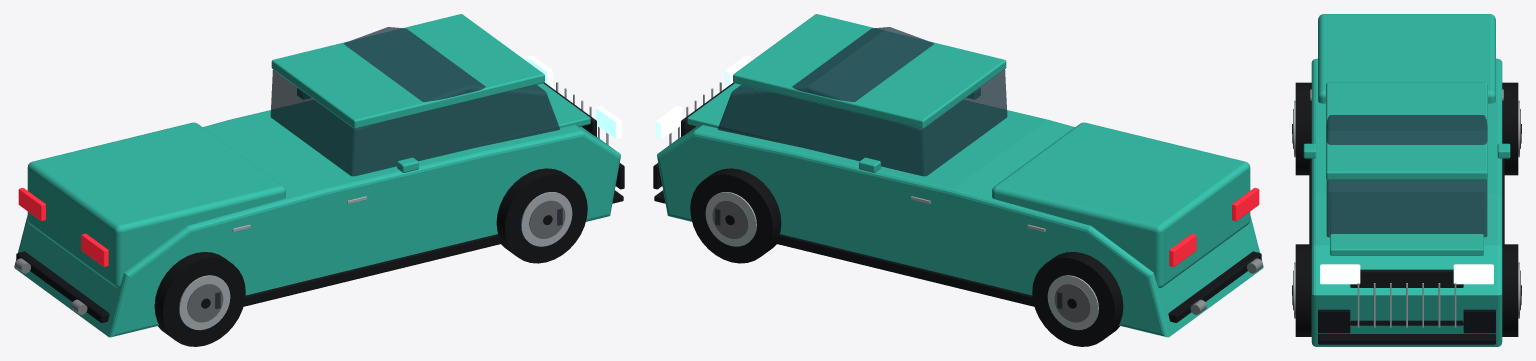
The model's file is ford_f_450_super_duty.glb.
3 renders of one model, left to right at view 1: azimuth 30°, elevation 25°; view 2: azimuth 150°, elevation 25°; view 3: azimuth 270°, elevation 25°, orthographic. The views are drawn at different scales.
Parts seen in each view (by area): view 1: sculpted_body, pickup_bed, cab, cab_roof, hood_center, rear_right_wheel_tire, front_right_wheel_tire, side_skirt_1, rear_diffuser, rear_right_wheel_rim, front_right_wheel_rim, rear_right_wheel_disc (+4 smaller); view 2: sculpted_body, pickup_bed, cab, cab_roof, hood_center, rear_left_wheel_tire, front_left_wheel_tire, side_skirt_-1, rear_diffuser, rear_left_wheel_rim, front_left_wheel_rim, rear_left_wheel_disc (+4 smaller); view 3: cab_roof, sculpted_body, cab, pickup_bed, hood_center, front_grille, front_splitter, front_left_wheel_tire, front_right_wheel_tire, rear_left_wheel_tire, rear_right_wheel_tire, headlight_left (+7 smaller).
Part boxes in pixels (x1,y1,x2,y2): sculpted_body: (14, 100, 620, 337); pickup_bed: (27, 122, 285, 287); cab: (270, 27, 559, 176); cab_roof: (271, 14, 544, 128); hood_center: (399, 83, 590, 151); rear_right_wheel_tire: (154, 252, 245, 346); front_right_wheel_tire: (496, 168, 587, 263); side_skirt_1: (243, 234, 502, 306); rear_diffuser: (16, 251, 109, 322); rear_right_wheel_rim: (179, 275, 230, 330); front_right_wheel_rim: (521, 192, 572, 246); rear_right_wheel_disc: (187, 284, 223, 322); sculpted_body: (657, 100, 1263, 337); pickup_bed: (992, 122, 1250, 287); cab: (718, 27, 1007, 176); cab_roof: (733, 14, 1006, 128); hood_center: (687, 83, 878, 151); rear_left_wheel_tire: (1032, 252, 1123, 346); front_left_wheel_tire: (690, 168, 781, 263); side_skirt_-1: (775, 234, 1034, 306); rear_diffuser: (1168, 251, 1261, 322); rear_left_wheel_rim: (1047, 275, 1098, 330); front_left_wheel_rim: (705, 192, 756, 246); rear_left_wheel_disc: (1054, 284, 1090, 322); cab_roof: (1326, 82, 1487, 180); sculpted_body: (1311, 58, 1502, 346); cab: (1326, 115, 1487, 237); pickup_bed: (1318, 14, 1495, 103); hood_center: (1330, 181, 1483, 255); front_grille: (1350, 269, 1463, 325); front_splitter: (1318, 334, 1495, 344); front_left_wheel_tire: (1502, 244, 1518, 336); front_right_wheel_tire: (1295, 244, 1311, 336); rear_left_wheel_tire: (1502, 82, 1518, 175); rear_right_wheel_tire: (1295, 82, 1311, 175); headlight_left: (1453, 264, 1493, 284).
Bounding box in the file's own units: 6.08 × 1.94 × 2.33.
